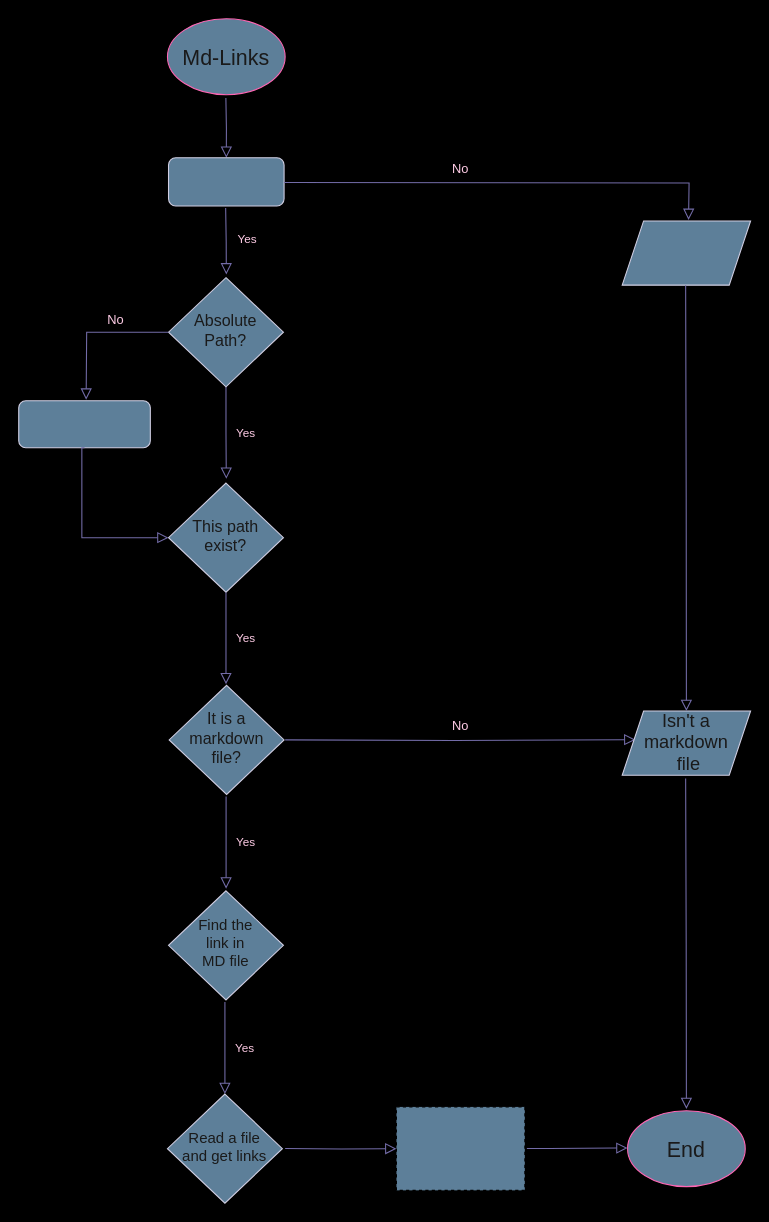
The diagram is 769 pixels wide and 1222 high, and some of its shapes have lost their labels. The shapes that lost their labels are listed below. From the top down, each one's centre as x and y in pixels, then its label:
At point 225,181: "Find Path".
At point 686,252: "Route not found".
At point 84,424: "Resolve Transform to absolute".
At point 460,1148: "Create an object with array".
